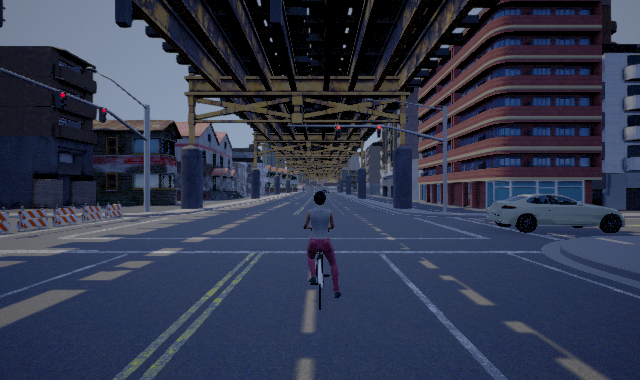bike: (296, 190, 345, 310)
traffic_light: (56, 91, 67, 110), (99, 107, 107, 123), (377, 126, 381, 138), (337, 126, 341, 138)
vehicle: (486, 193, 625, 233)
